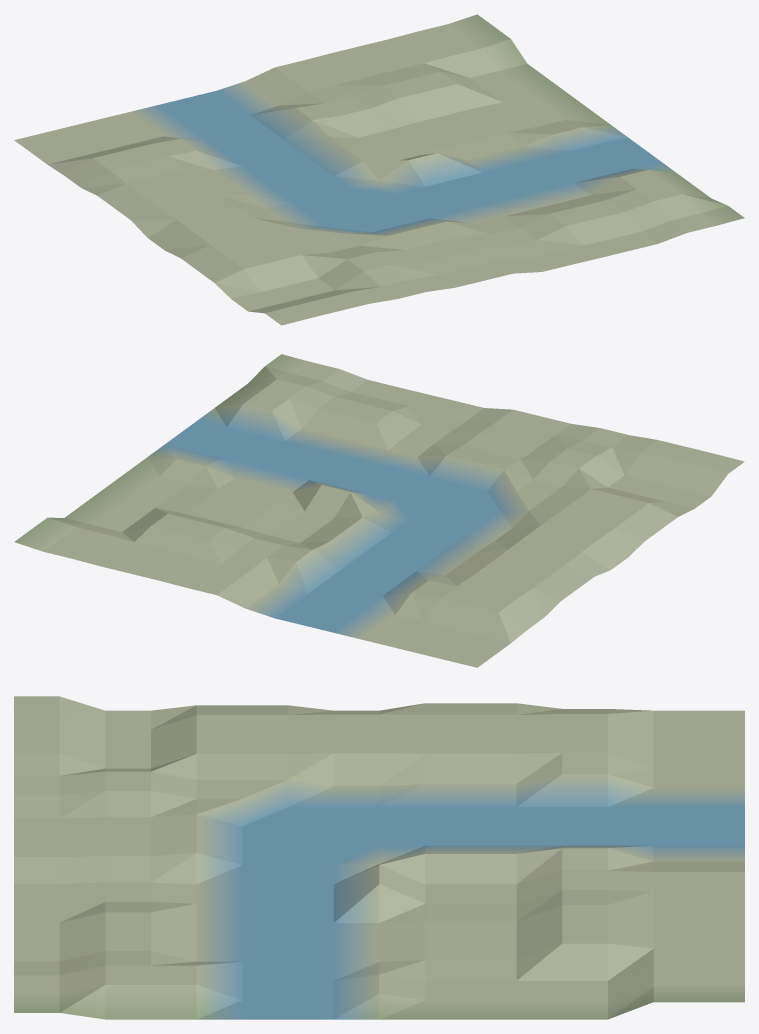
The picture shows the model from 3 angles, top to bottom: view 1: azimuth 30°, elevation 25°; view 2: azimuth 150°, elevation 25°; view 3: azimuth 270°, elevation 25°; orthographic projection. The views are drawn at different scales.
Bounding box in the file's own units: 32 × 0.9429 × 32.
